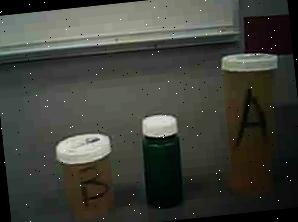Bottle A: (213, 42, 294, 206)
Bottle B: (43, 129, 123, 222)
Bottle C: (133, 109, 194, 213)
